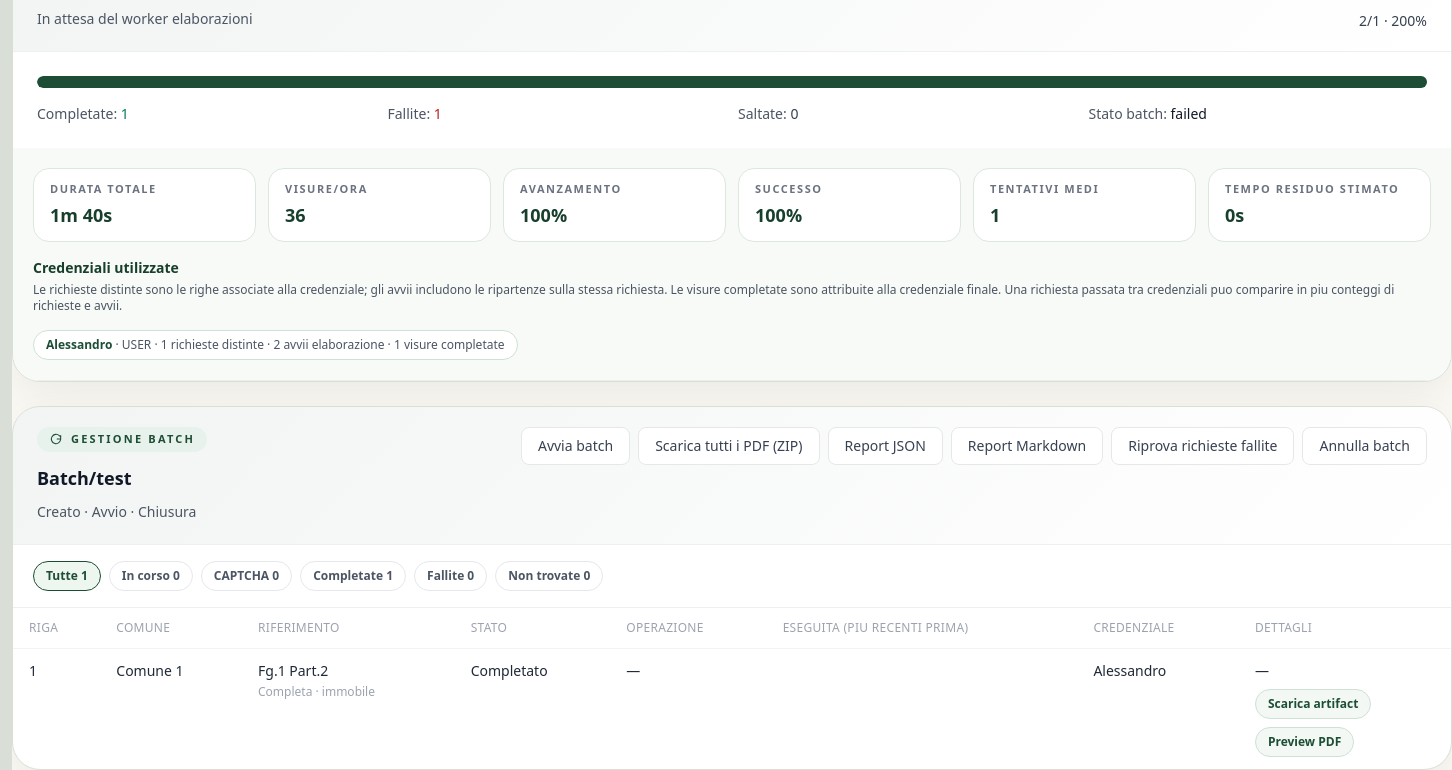
batch detail interactions › cleans loading state when a pending pdf request leaves the batch
This screenshot has width=1452, height=770.
(page scrolled)
Step 1. Click the button "Preview PDF" → [1305, 742], box [1255,727,1354,757]
Wait 400 ms
(page scrolled)
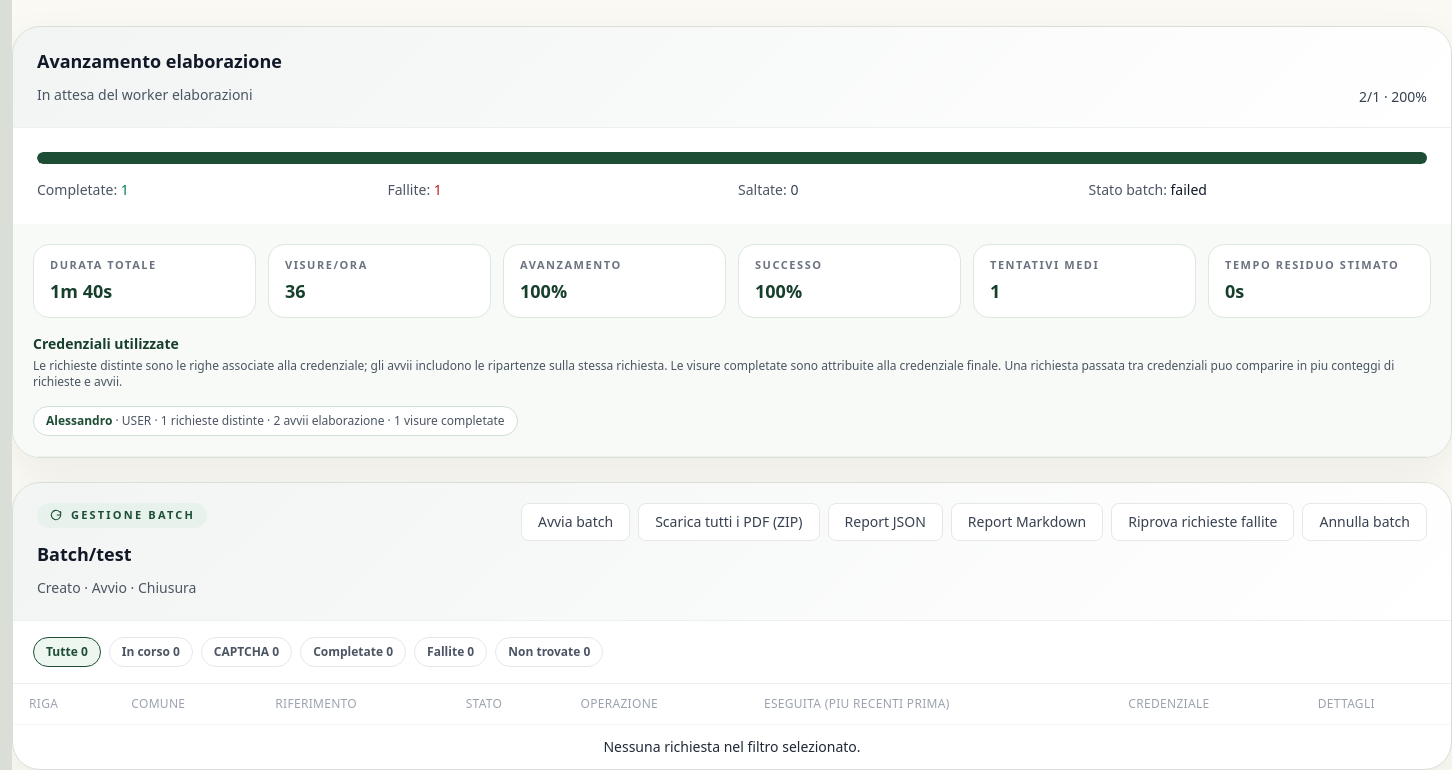
Expected: the button "Preview" is gone
